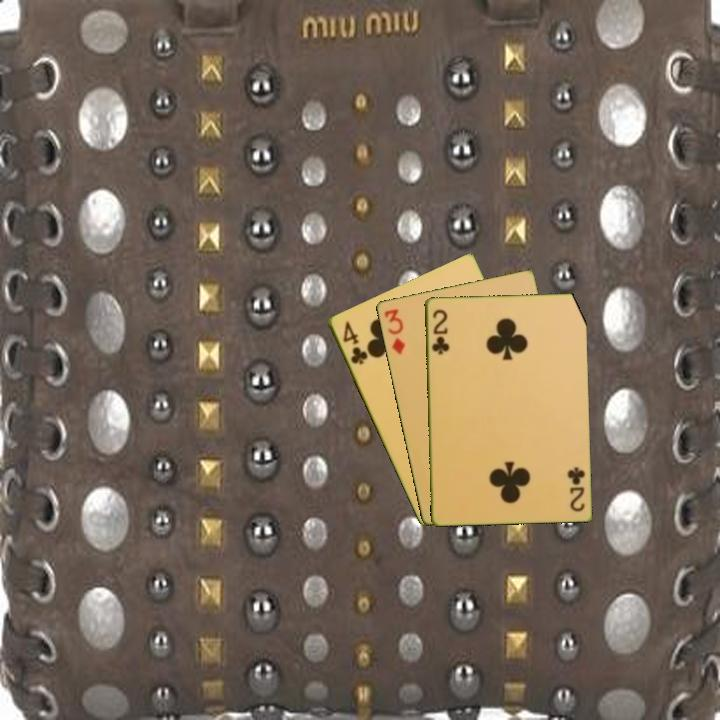2c: (428, 306, 451, 357), (564, 463, 587, 514)
3d: (380, 305, 407, 357)
4c: (339, 318, 370, 367)
